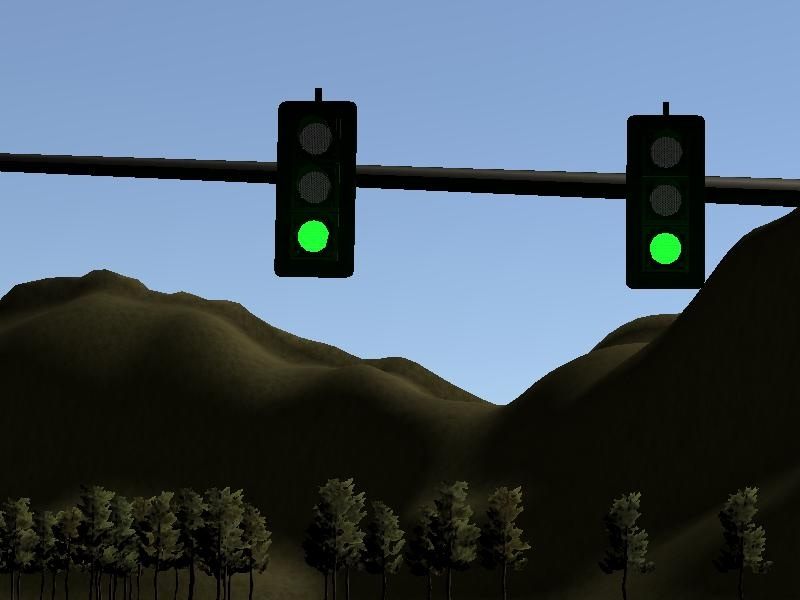GREEN: (273, 101, 358, 277), (623, 115, 704, 289)
